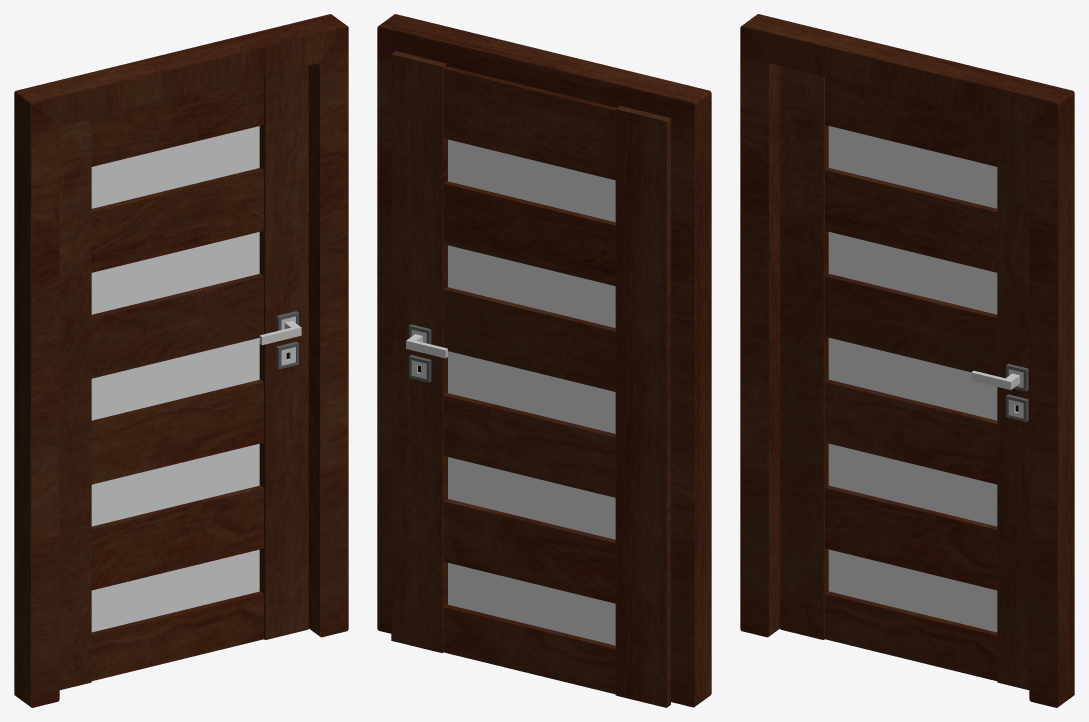
The model's file is PuertaAulaglb.glb.
3 views of the same model, side by side, from view 1: azimuth 30°, elevation 25°; view 2: azimuth 150°, elevation 25°; view 3: azimuth 330°, elevation 25° (orthographic).
Visible parts, largest first — view 1: Cube.009, Cube.008; view 2: Cube.009, Cube.008; view 3: Cube.009, Cube.008.
Boxes of the visible parts, bbox=[...] form: Cube.009: bbox=[59, 66, 308, 690]; Cube.008: bbox=[14, 14, 348, 707]; Cube.009: bbox=[391, 51, 670, 707]; Cube.008: bbox=[377, 14, 711, 707]; Cube.009: bbox=[780, 65, 1029, 690]; Cube.008: bbox=[740, 14, 1074, 707].
Bounding box in the file's own units: 1.65 × 3 × 0.3163.
5 materials, 1 textured.
